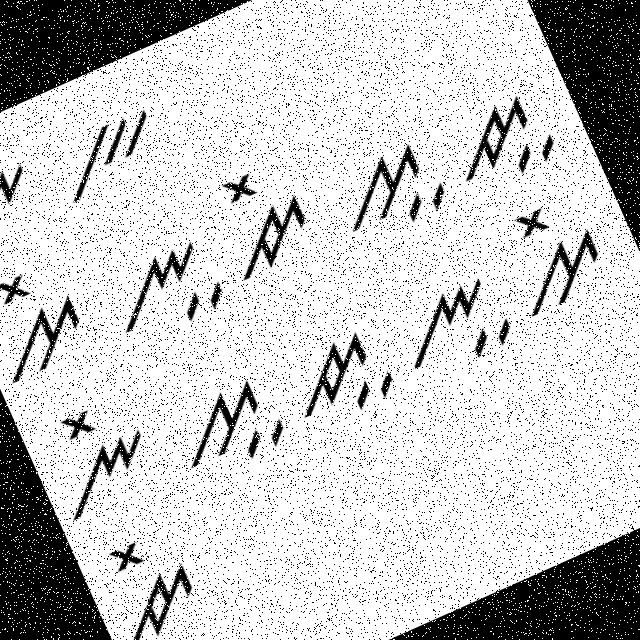jah: (270, 311, 406, 438), (434, 75, 566, 201)
jo: (195, 150, 326, 290), (83, 516, 216, 639)
nyah: (90, 224, 236, 353), (384, 258, 524, 391)
nyo: (22, 382, 168, 532), (0, 124, 48, 263)
sah: (154, 354, 298, 493), (318, 126, 454, 250)
so: (486, 182, 620, 324), (0, 254, 100, 391)
